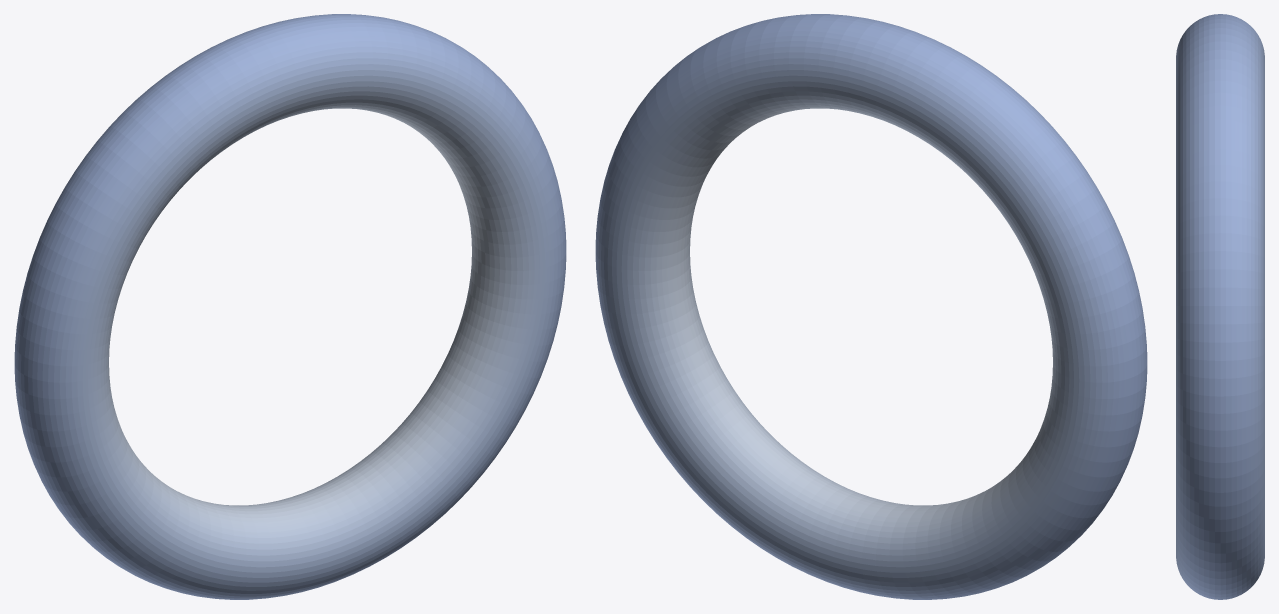
3 renders of one model, left to right at view 1: azimuth 30°, elevation 25°; view 2: azimuth 150°, elevation 25°; view 3: azimuth 270°, elevation 25°, orthographic. The views are drawn at different scales.
Visible parts, largest first — view 1: world; view 2: world; view 3: world.
Boxes of the visible parts, x1,y1,x2,y2 form: world: (14,14,566,599); world: (595,14,1147,599); world: (1176,14,1264,599).
Bounding box in the file's own units: 24.89 × 24.89 × 3.77.
